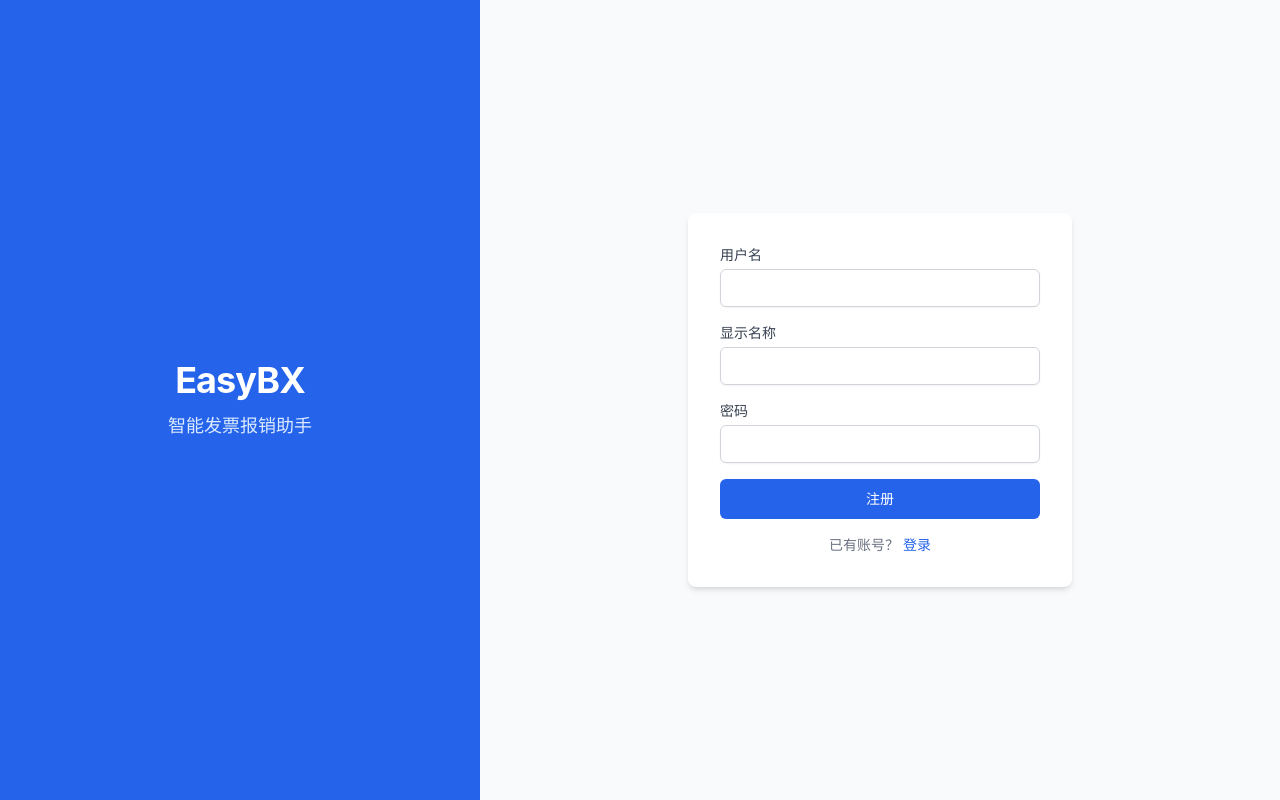
Test: RegisterPage error mapping › shows server error on 500 response
Type "testuser" into the field labelled "用户名" at (880, 288), box [720, 269, 1040, 307]
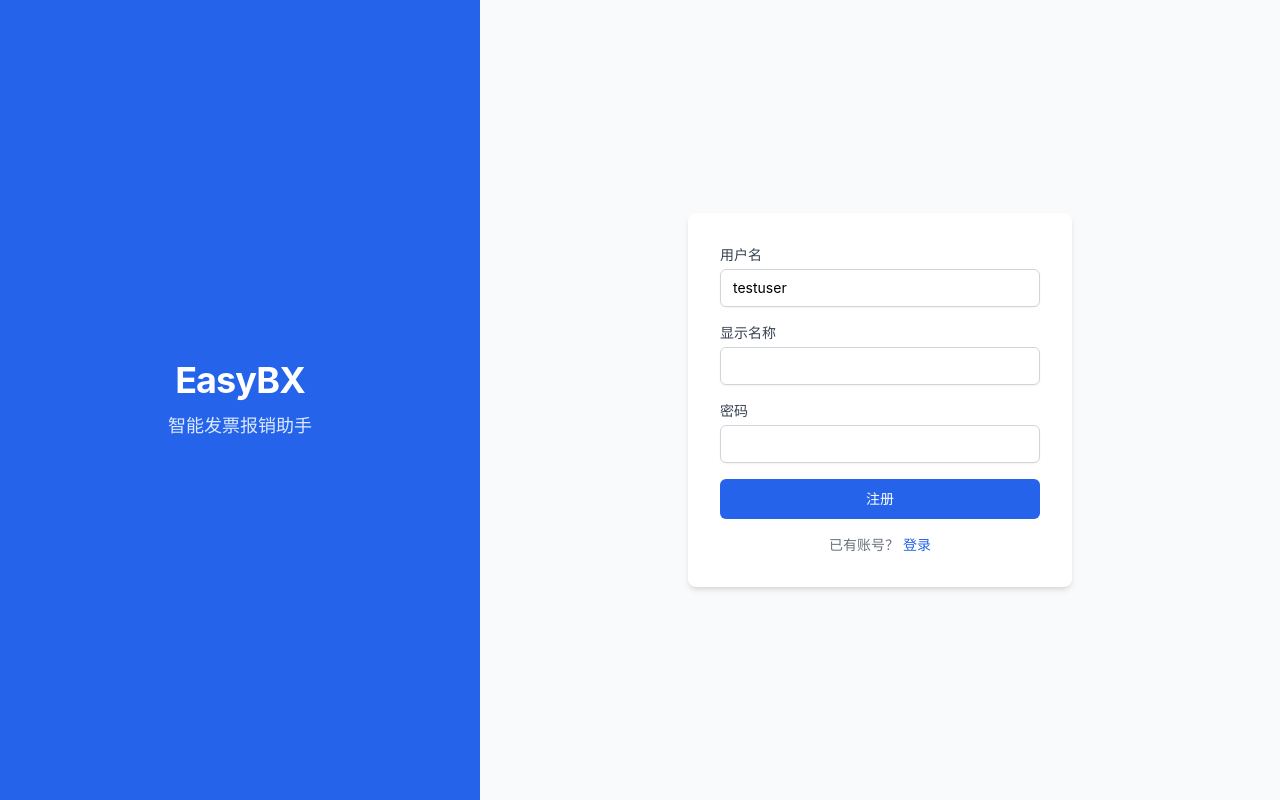
Type "测试" into the field labelled "显示名称" at (880, 366), box [720, 347, 1040, 385]
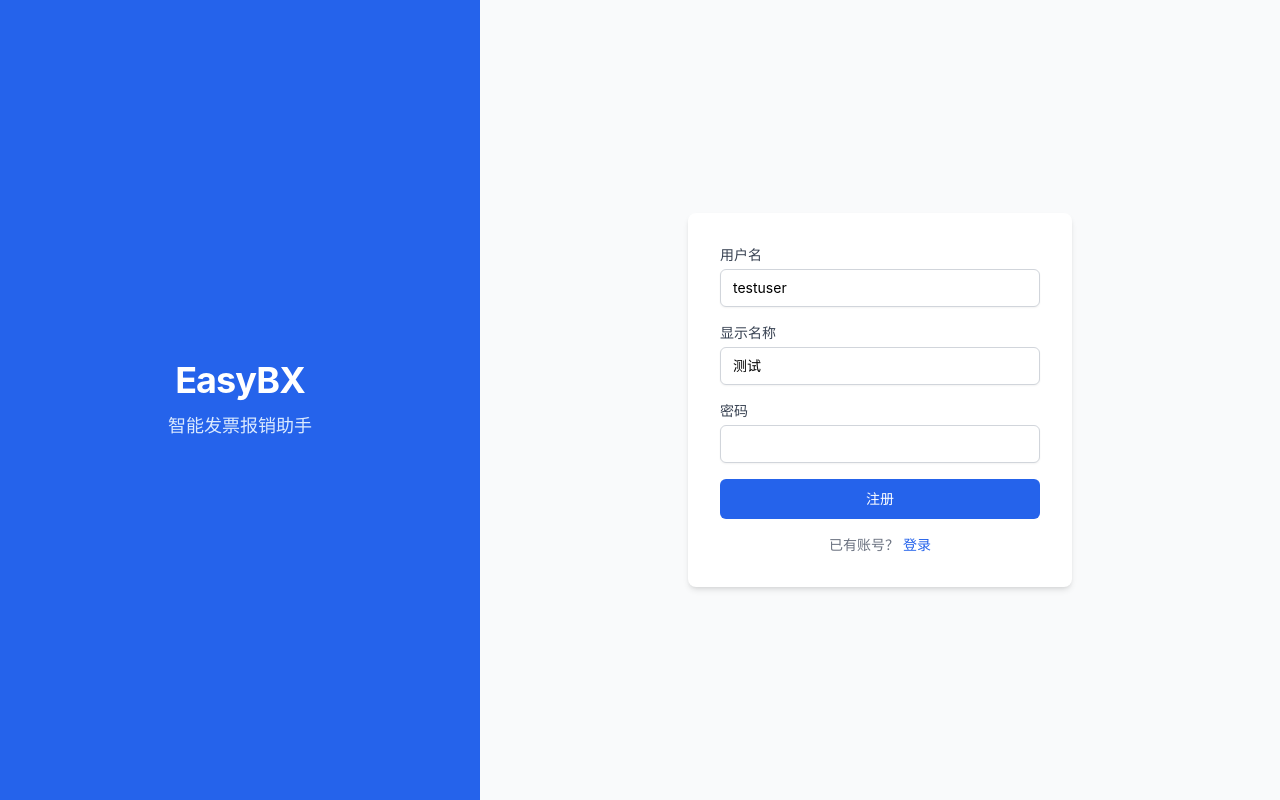
Type "123456" into the password field labelled "密码" at (880, 444), box [720, 425, 1040, 463]
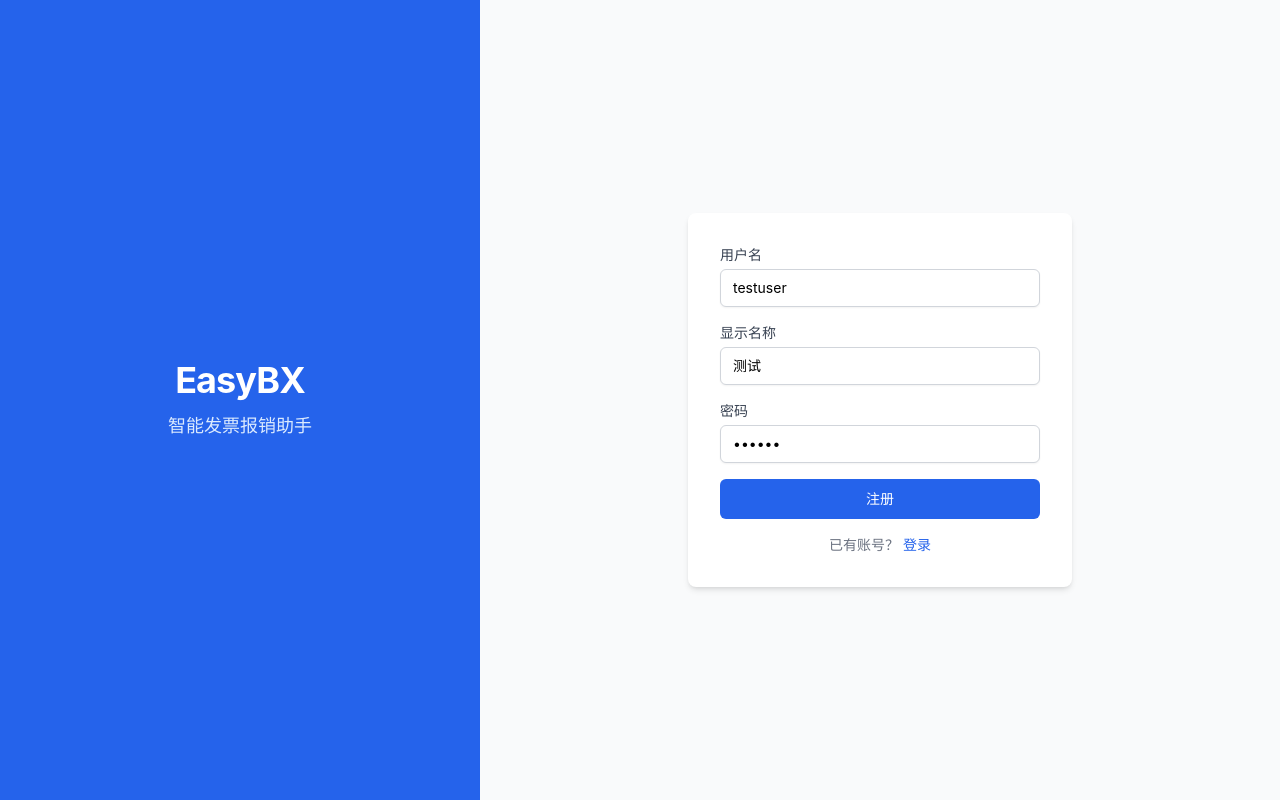
Click the button "注册" at (880, 499), box [720, 479, 1040, 519]
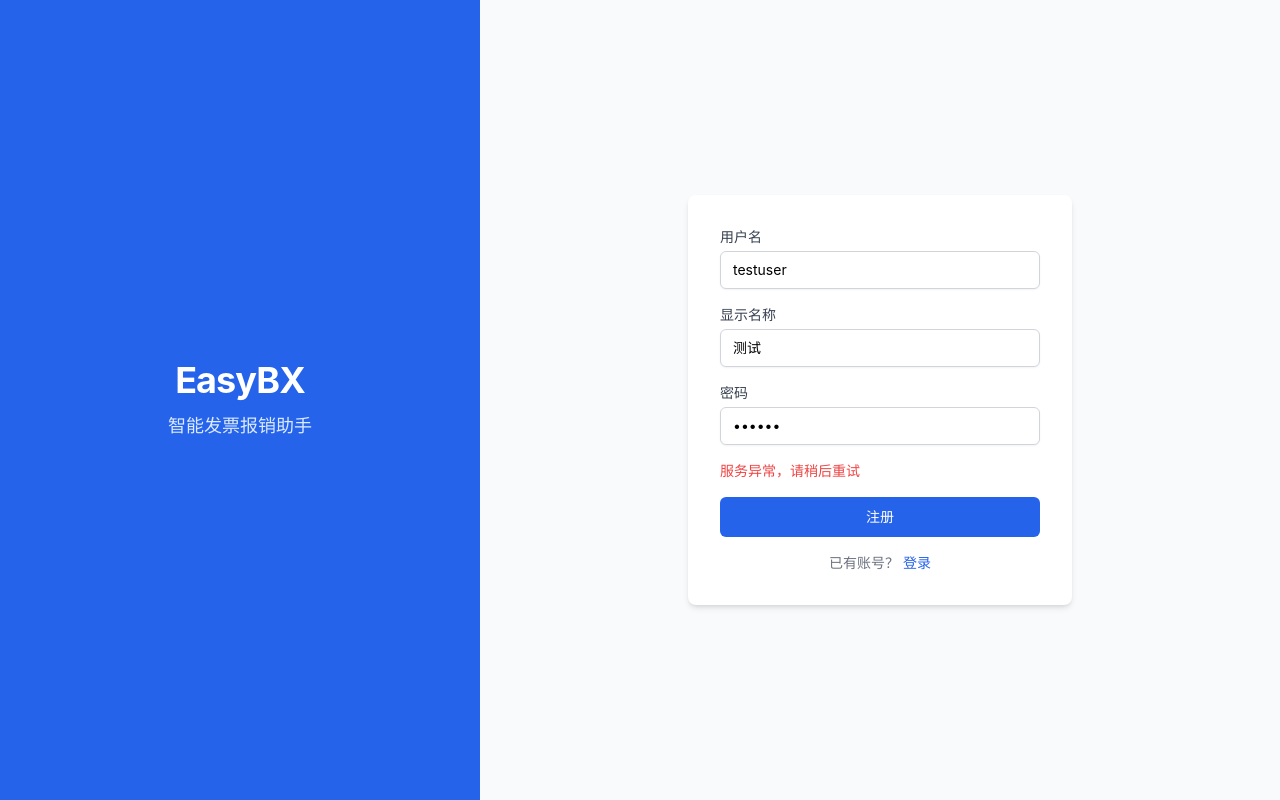
Check: the text "服务异常，请稍后重试" is shown, box [720, 462, 860, 479]
